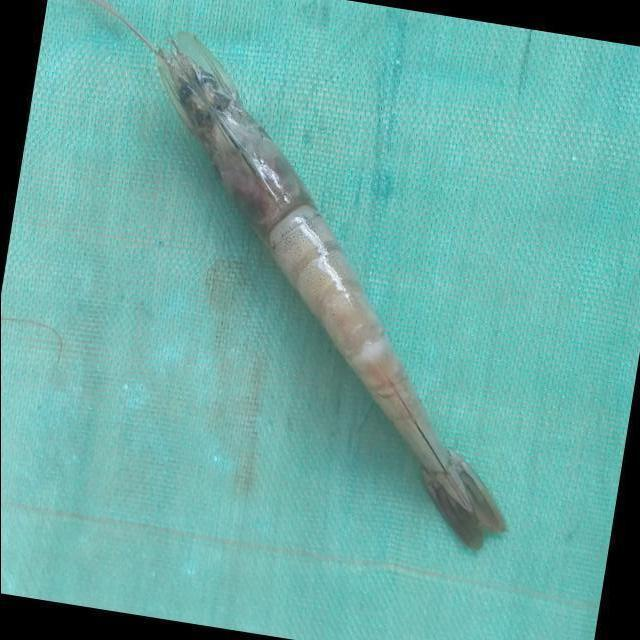shrimp: (154, 31, 504, 550)
